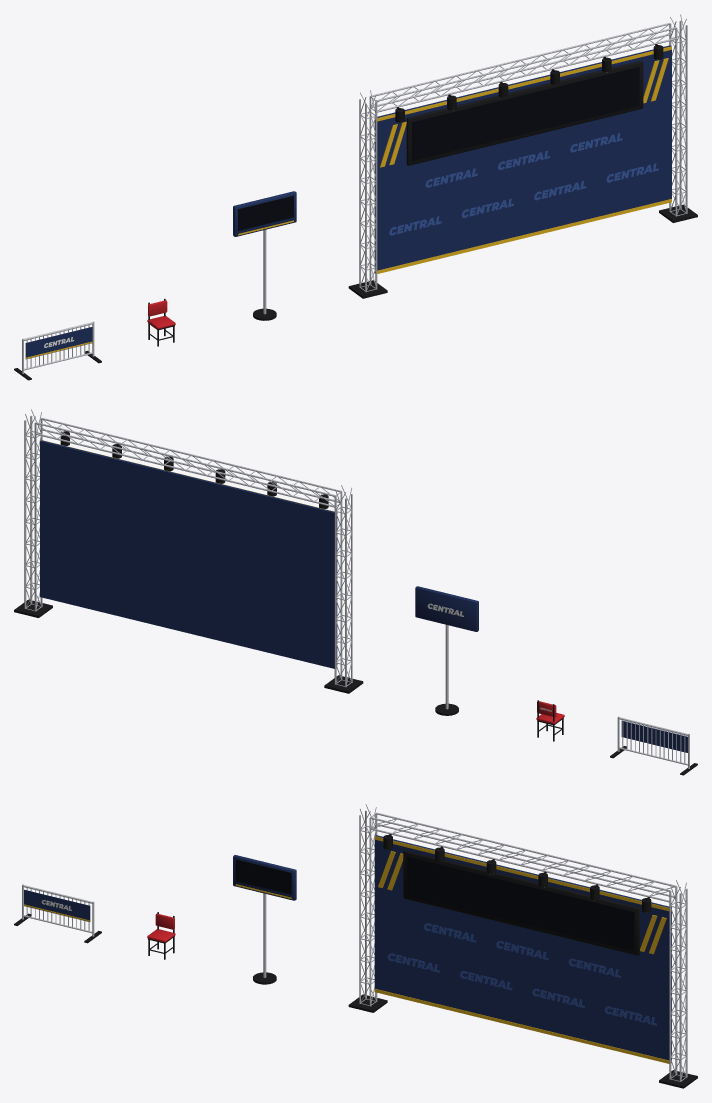
Rendered from LocalMeet_02.glb.
3 views of the same model, one above another, from view 1: azimuth 30°, elevation 25°; view 2: azimuth 150°, elevation 25°; view 3: azimuth 330°, elevation 25° (orthographic).
Visible parts, largest first — view 1: AwardsBackdrop_Panel, AwardsBackdrop_Title, AwardsBackdrop_Truss, AwardsBackdrop_Trim, AwardsBackdrop_TitleFrame, AwardsBackdrop_Pattern, PlatformSign_Screen, Barricade_Banner, AwardsBackdrop_Cans, PlatformSign_Board, AwardsBackdrop_Feet, Barricade_Frame; view 2: AwardsBackdrop_Panel, AwardsBackdrop_Truss, PlatformSign_Board, Barricade_Frame, Barricade_Banner, AwardsBackdrop_Feet, AwardsBackdrop_Cans; view 3: AwardsBackdrop_Panel, AwardsBackdrop_Title, AwardsBackdrop_Truss, AwardsBackdrop_Trim, AwardsBackdrop_TitleFrame, AwardsBackdrop_Pattern, PlatformSign_Screen, Barricade_Banner, AwardsBackdrop_Cans, PlatformSign_Board, AwardsBackdrop_Feet, Barricade_Frame (+1 smaller).
Boxes of the visible parts, <box> form: AwardsBackdrop_Panel: <box>374,45,671,272</box>; AwardsBackdrop_Title: <box>412,66,639,161</box>; AwardsBackdrop_Truss: <box>359,14,687,292</box>; AwardsBackdrop_Trim: <box>377,46,671,273</box>; AwardsBackdrop_TitleFrame: <box>406,60,643,165</box>; AwardsBackdrop_Pattern: <box>389,133,658,235</box>; PlatformSign_Screen: <box>238,195,293,230</box>; Barricade_Banner: <box>25,327,92,359</box>; AwardsBackdrop_Cans: <box>395,44,663,122</box>; PlatformSign_Board: <box>233,191,296,236</box>; AwardsBackdrop_Feet: <box>348,204,697,298</box>; Barricade_Frame: <box>22,321,94,373</box>; AwardsBackdrop_Panel: <box>40,440,337,668</box>; AwardsBackdrop_Truss: <box>24,409,352,687</box>; PlatformSign_Board: <box>415,586,478,631</box>; Barricade_Frame: <box>617,716,689,768</box>; Barricade_Banner: <box>621,721,687,752</box>; AwardsBackdrop_Feet: <box>14,599,363,693</box>; AwardsBackdrop_Cans: <box>60,431,328,508</box>; AwardsBackdrop_Panel: <box>374,835,671,1062</box>; AwardsBackdrop_Title: <box>407,856,634,950</box>; AwardsBackdrop_Truss: <box>359,804,687,1081</box>; AwardsBackdrop_Trim: <box>374,836,669,1063</box>; AwardsBackdrop_TitleFrame: <box>403,850,639,955</box>; AwardsBackdrop_Pattern: <box>387,923,656,1025</box>; PlatformSign_Screen: <box>235,859,291,894</box>; Barricade_Banner: <box>24,889,90,921</box>; AwardsBackdrop_Cans: <box>383,834,651,912</box>; PlatformSign_Board: <box>233,855,296,900</box>; AwardsBackdrop_Feet: <box>348,994,697,1088</box>; Barricade_Frame: <box>22,884,94,936</box>.
Size of the model in its own units: 64.77 by 18.21 by 2.6.
